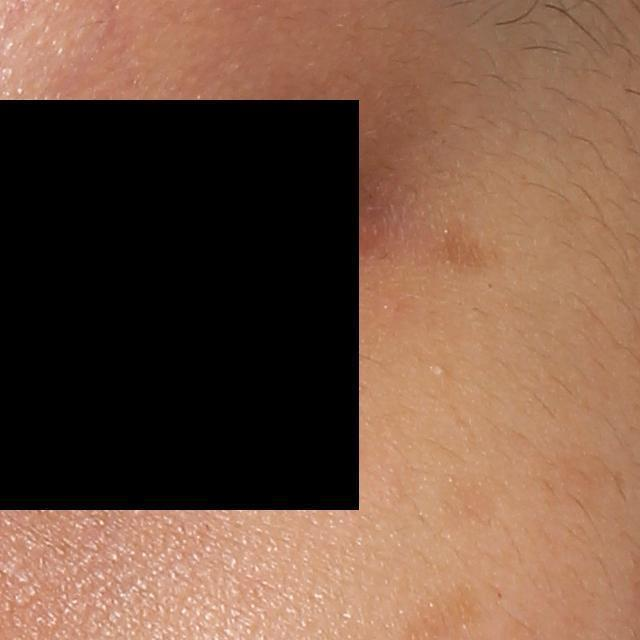melasma: (426, 205, 504, 280)
